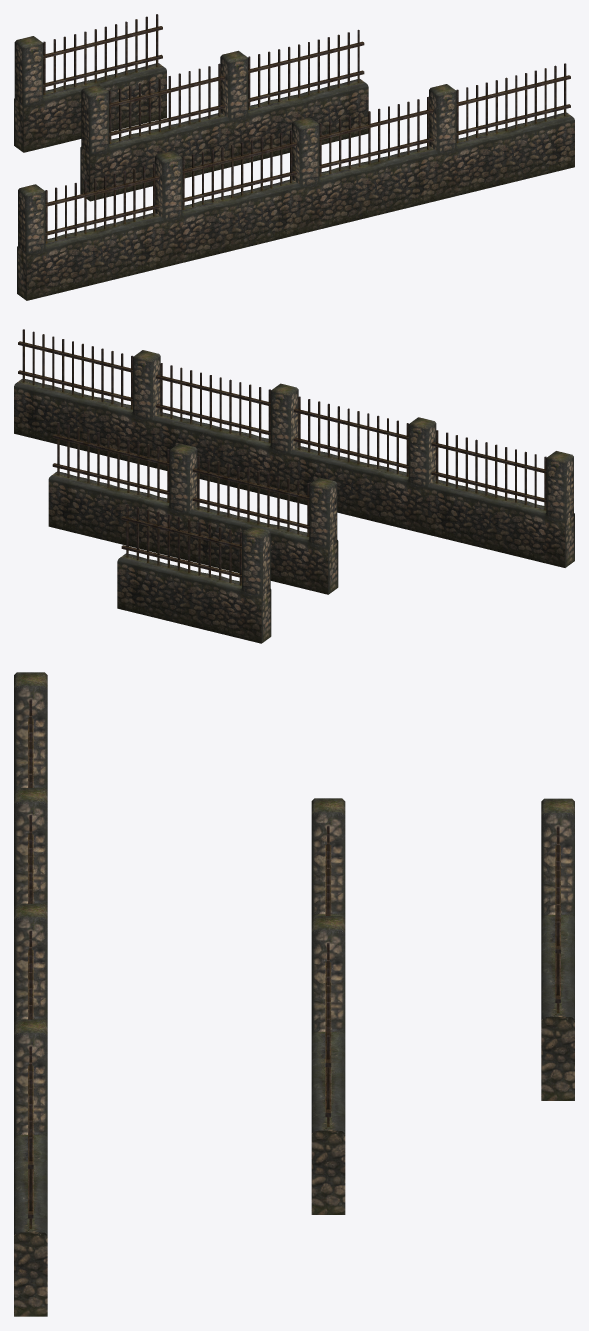
Rendered from cerca.fbx.
3 renders of one model, top to bottom at view 1: azimuth 30°, elevation 25°; view 2: azimuth 150°, elevation 25°; view 3: azimuth 270°, elevation 25°, orthographic. The views are drawn at different scales.
Parts seen in each view (by area): view 1: S_CemeteryWall_01_Merge_4x, S_CemeteryWall_01_Merge_2x, S_CemeteryWall_01_Merge_1x; view 2: S_CemeteryWall_01_Merge_4x, S_CemeteryWall_01_Merge_2x, S_CemeteryWall_01_Merge_1x; view 3: S_CemeteryWall_01_Merge_4x, S_CemeteryWall_01_Merge_2x, S_CemeteryWall_01_Merge_1x.
Boxes of the visible parts, bbox=[...] form: S_CemeteryWall_01_Merge_4x: bbox=[17, 63, 574, 300]; S_CemeteryWall_01_Merge_2x: bbox=[80, 29, 368, 201]; S_CemeteryWall_01_Merge_1x: bbox=[14, 14, 166, 152]; S_CemeteryWall_01_Merge_4x: bbox=[14, 329, 574, 567]; S_CemeteryWall_01_Merge_2x: bbox=[48, 422, 338, 594]; S_CemeteryWall_01_Merge_1x: bbox=[117, 504, 271, 643]; S_CemeteryWall_01_Merge_4x: bbox=[14, 672, 47, 1316]; S_CemeteryWall_01_Merge_2x: bbox=[311, 798, 345, 1214]; S_CemeteryWall_01_Merge_1x: bbox=[541, 798, 574, 1100].
Bounding box in the file's own units: 2642 × 488 × 1354.
1 material, 1 textured.
